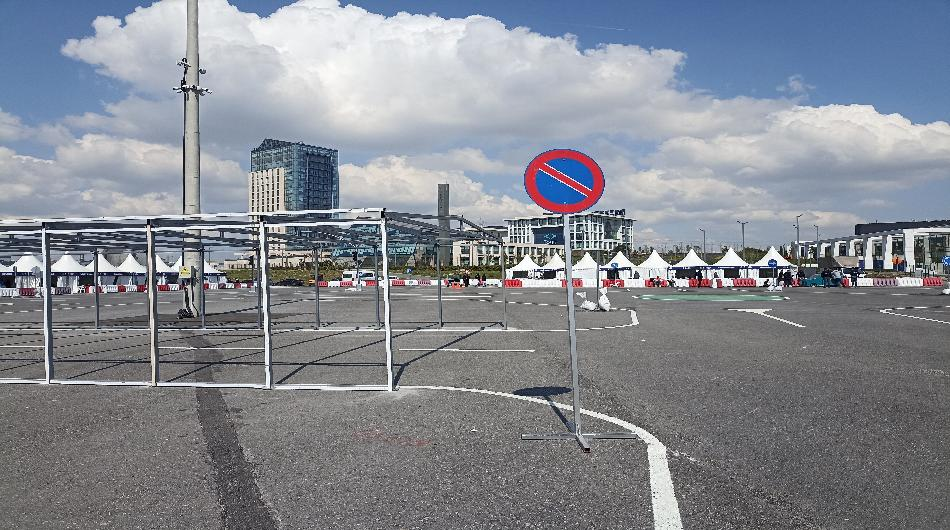park_yapilmaz_1: (524, 148, 608, 216)
